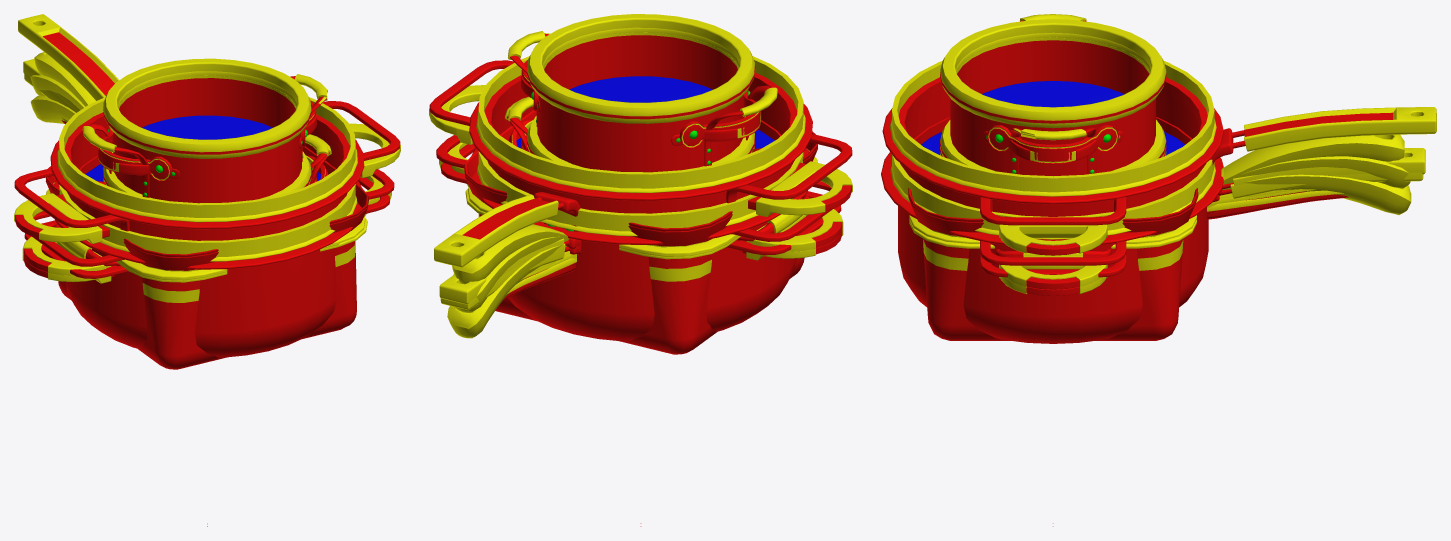
Rendered from pots_grp.fbx.
The picture shows the model from 3 angles, left to right: view 1: azimuth 30°, elevation 25°; view 2: azimuth 150°, elevation 25°; view 3: azimuth 270°, elevation 25°; orthographic projection. The views are drawn at different scales.
Visible parts, largest first — view 1: pot_15, pot_6, pot_10, pot_1, pot_17, pot_8, pot_28, pot_30, pot_16, pot_18, pot_13, pot_volume_8 (+9 smaller); view 2: pot_10, pot_15, pot_6, pot_17, pot_1, pot_8, pot_28, pot_30, pot_13, pot_16, pot_21, pot_18 (+11 smaller); view 3: pot_15, pot_10, pot_6, pot_17, pot_1, pot_8, pot_30, pot_28, pot_13, pot_21, pot_29, pot_18 (+12 smaller).
Part boxes in pixels (x1,y1,x2,y2): pot_15: (18,14,364,357); pot_6: (97,58,316,202); pot_10: (14,97,400,356); pot_1: (82,74,327,203); pot_17: (14,123,400,353); pot_8: (98,71,316,199); pot_28: (46,180,367,369); pot_30: (58,221,365,369); pot_16: (22,158,391,283); pot_18: (22,171,390,275); pot_13: (23,59,355,253); pot_volume_8: (142,115,272,139); pot_10: (429,56,852,341); pot_15: (434,91,812,341); pot_6: (521,14,761,172); pot_17: (429,85,852,334); pot_1: (508,31,777,172); pot_8: (521,27,760,169); pot_28: (465,148,816,354); pot_30: (468,193,803,354); pot_13: (439,120,803,304); pot_16: (439,122,843,260); pot_21: (447,157,817,338); pot_18: (440,136,843,251); pot_15: (882,91,1436,343); pot_10: (892,61,1214,343); pot_6: (940,19,1166,175); pot_17: (889,99,1216,343); pot_1: (940,14,1166,175); pot_8: (956,32,1155,175); pot_30: (909,193,1232,340); pot_28: (908,195,1198,340); pot_13: (892,117,1425,229); pot_21: (909,174,1411,243); pot_29: (1223,134,1404,184); pot_18: (881,152,1223,289).
Size of the model in its own units: 45.65 by 49.93 by 54.5.
